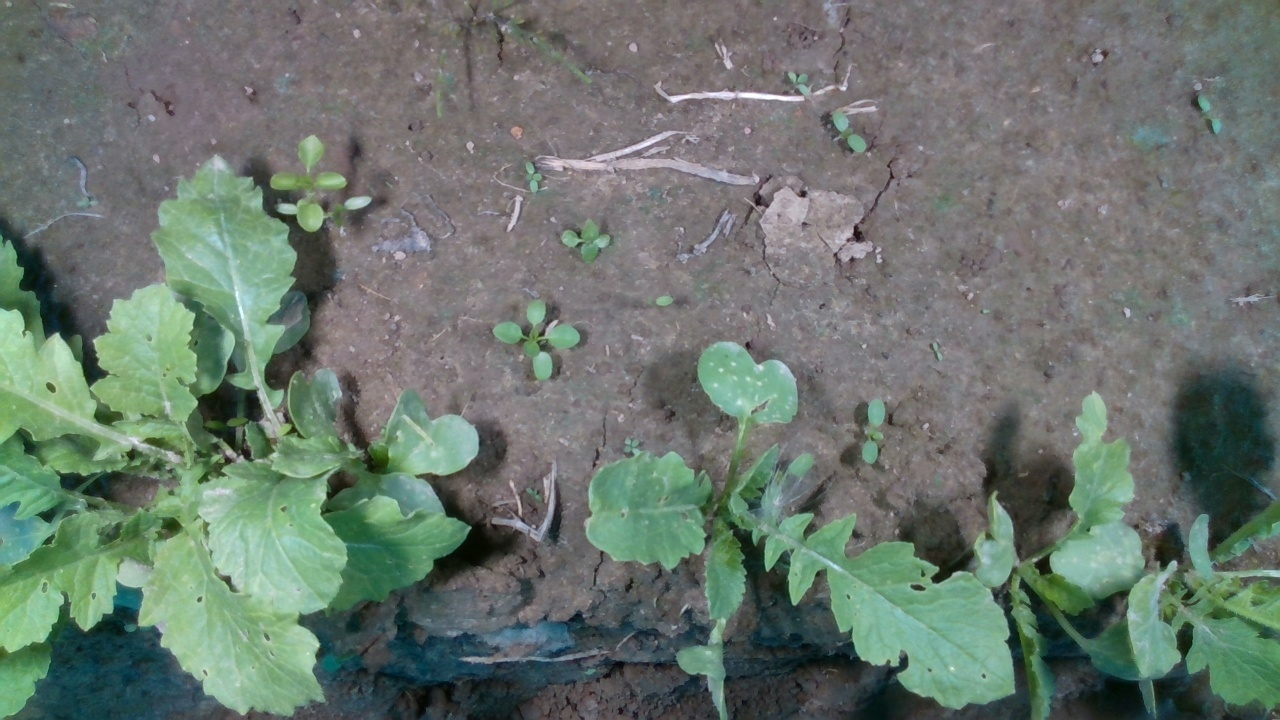weed: (559, 216, 612, 265), (829, 109, 869, 155), (861, 396, 886, 465), (1195, 90, 1223, 138), (785, 68, 811, 98), (523, 160, 543, 195), (931, 340, 945, 364)
